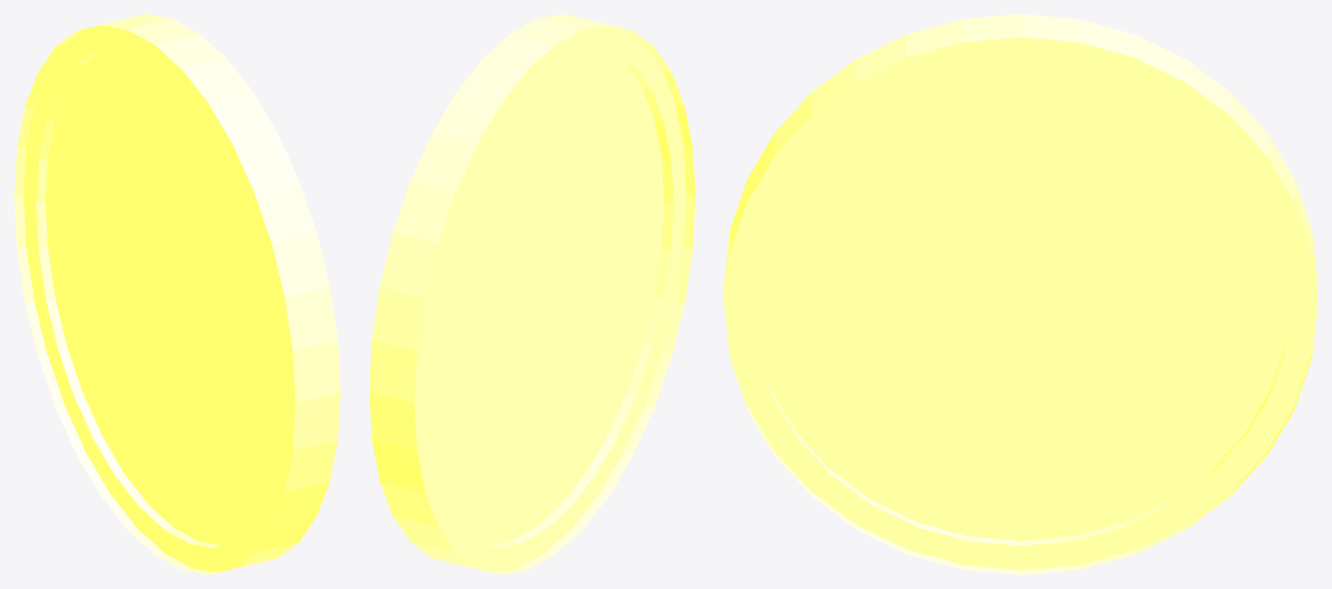
The model's file is Coin.glb.
The picture shows the model from 3 angles, left to right: view 1: azimuth 30°, elevation 25°; view 2: azimuth 150°, elevation 25°; view 3: azimuth 270°, elevation 25°; orthographic projection. The views are drawn at different scales.
Visible parts, largest first — view 1: Cylinder; view 2: Cylinder; view 3: Cylinder.
Boxes of the visible parts, box(x1,y1,x2,y2) form: Cylinder: box(14, 14, 340, 574); Cylinder: box(369, 14, 695, 574); Cylinder: box(724, 14, 1317, 574).
Bounding box in the file's own units: 0.1857 × 2 × 2.
